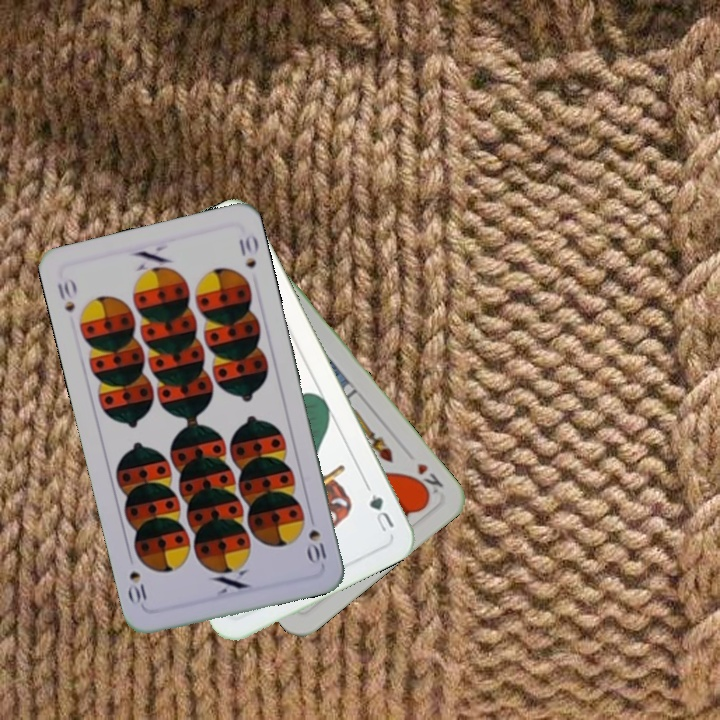GU: (365, 490, 397, 536)
HK: (407, 458, 446, 502)
S10: (304, 509, 329, 567), (53, 274, 79, 315)
